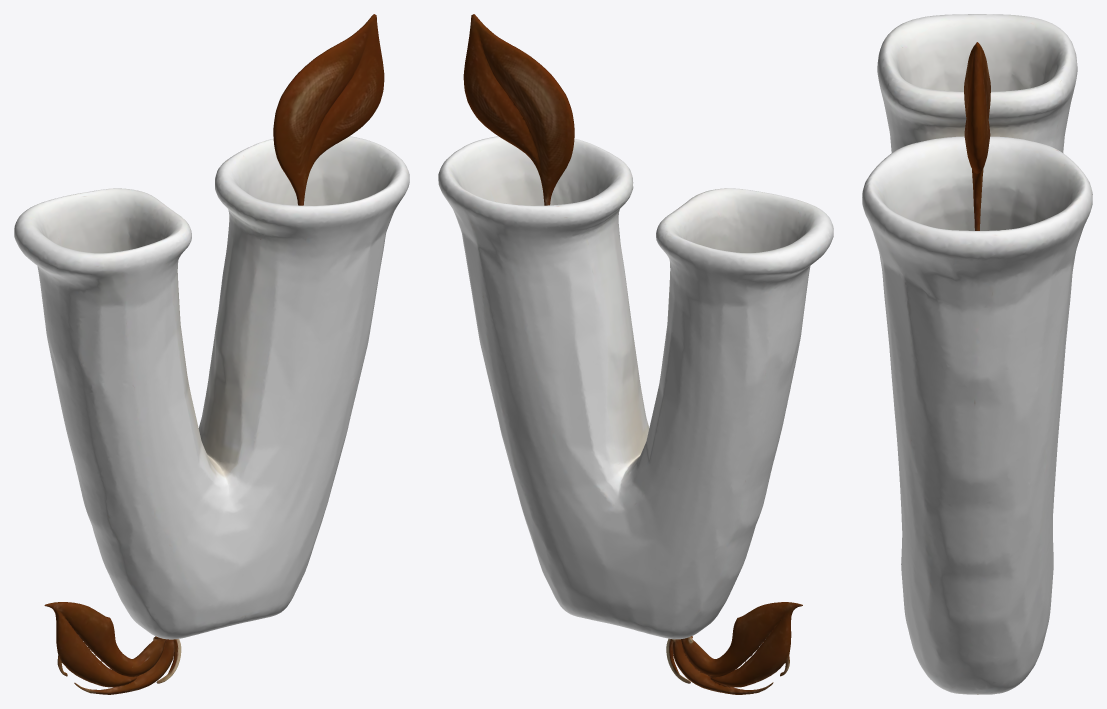
Rendered from Vrindopnishad - Official.glb.
3 views of the same model, side by side, from view 1: azimuth 30°, elevation 25°; view 2: azimuth 150°, elevation 25°; view 3: azimuth 270°, elevation 25° (orthographic). The views are drawn at different scales.
Parts seen in each view (by area): view 1: world; view 2: world; view 3: world.
Part boxes in pixels (x1,y1,x2,y2): world: (14, 14, 409, 694); world: (438, 14, 833, 694); world: (862, 14, 1092, 694).
Bounding box in the file's own units: 0.6131 × 0.985 × 0.2627.
Materials: 1 (1 with a texture image).
